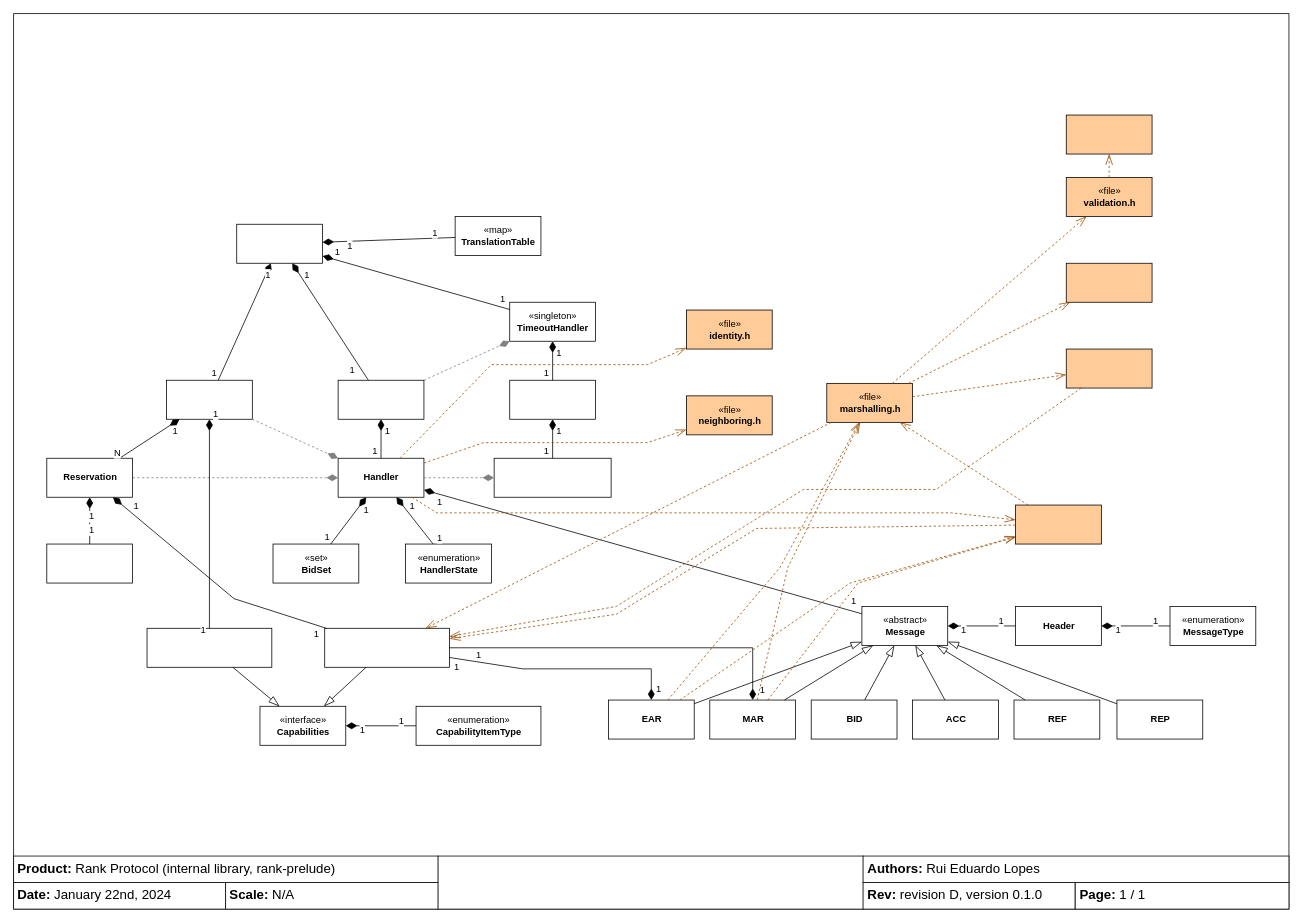
The diagram is 1303 pixels wide and 923 high, and some of its shapes have lost their labels. Each missing label, with the centre of its shape:
"Rank Protocol Data Model" goes at [650,882].
"RequestingCapabilities" goes at [387,647].
"TimeoutHandlerSpec" goes at [552,477].
"«enumeration» ReservationState" goes at [89,563].
"«file» messaging.h" goes at [1058,524].
"«file» serialization.h" goes at [1108,282].
"«file» transformation.h" goes at [1108,368].
"«file» yang.h" goes at [1108,134].
"«map» Store" goes at [380,399].
"«map» TimeoutTable" goes at [552,399].
"«singleton» Process" goes at [279,243].
"«singleton» Resources" goes at [209,399].
"«struct» CurrentCapabilities" goes at [209,647].
